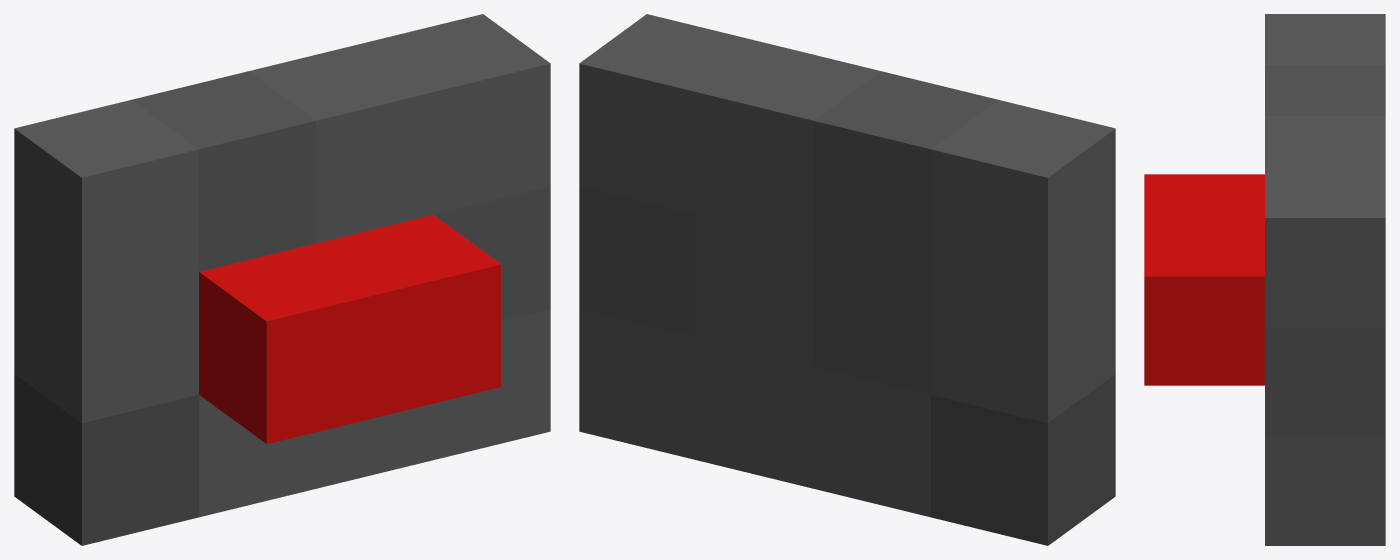
Rendered from Button_Wall_Big_Red.glb.
3 renders of one model, left to right at view 1: azimuth 30°, elevation 25°; view 2: azimuth 150°, elevation 25°; view 3: azimuth 270°, elevation 25°, orthographic. The views are drawn at different scales.
Parts seen in each view (by area): view 1: Button_Wall_Big_Red; view 2: Button_Wall_Big_Red; view 3: Button_Wall_Big_Red.
Boxes of the visible parts, bbox=[...] form: Button_Wall_Big_Red: bbox=[14, 14, 550, 545]; Button_Wall_Big_Red: bbox=[579, 14, 1115, 545]; Button_Wall_Big_Red: bbox=[1144, 14, 1385, 545].
Size of the model in its own units: 0.4 by 0.3 by 0.2.
Materials: 1 (1 with a texture image).
